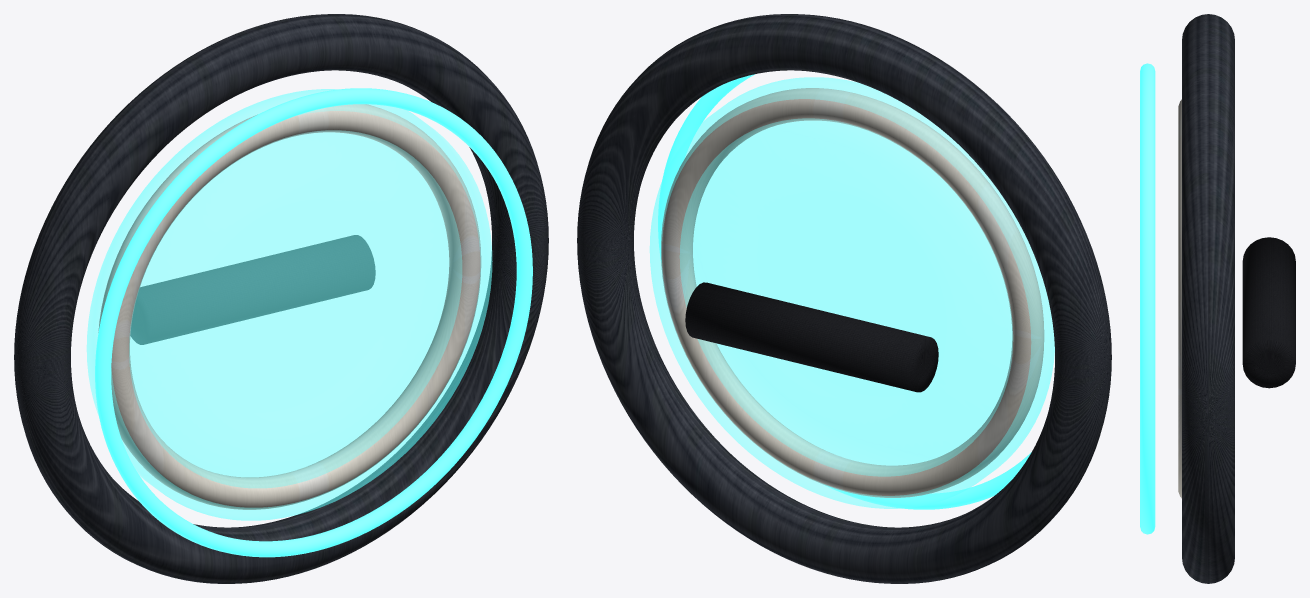
File: Weapon_Player_DefenderShield_Animated.glb
3 renders of one model, left to right at view 1: azimuth 30°, elevation 25°; view 2: azimuth 150°, elevation 25°; view 3: azimuth 270°, elevation 25°, orthographic. The views are drawn at different scales.
Parts seen in each view (by area): view 1: ShieldFrame, EnergyFace, ParryRing; view 2: ShieldFrame, EnergyFace, ParryRing; view 3: ShieldFrame, ParryRing.
Part boxes in pixels (x1,y1,x2,y2): ShieldFrame: [14, 14, 548, 583]; EnergyFace: [86, 89, 492, 520]; ParryRing: [95, 88, 532, 557]; ShieldFrame: [577, 14, 1111, 583]; EnergyFace: [649, 77, 1054, 508]; ParryRing: [658, 74, 1031, 509]; ShieldFrame: [1178, 14, 1295, 583]; ParryRing: [1140, 63, 1155, 534].
Size of the model in its own units: 0.75 by 0.75 by 0.205.
5 materials, 3 textured.
